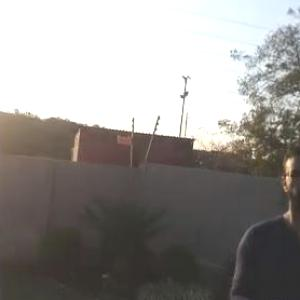follow: (224, 127, 299, 299)
